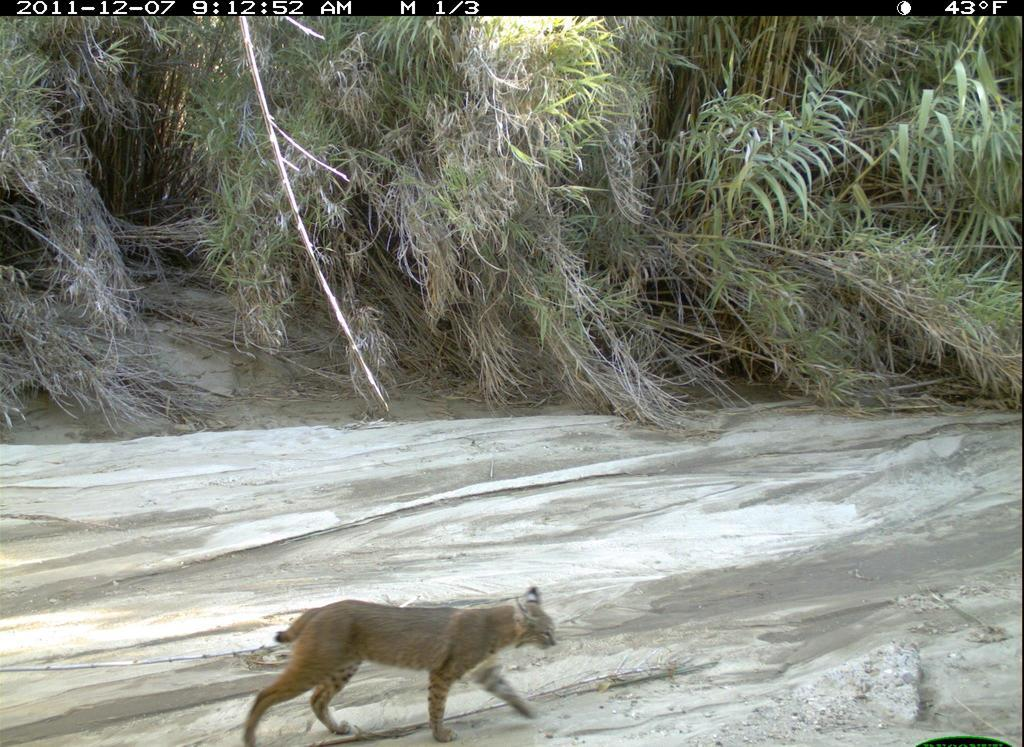bobcat: (235, 582, 564, 747)
